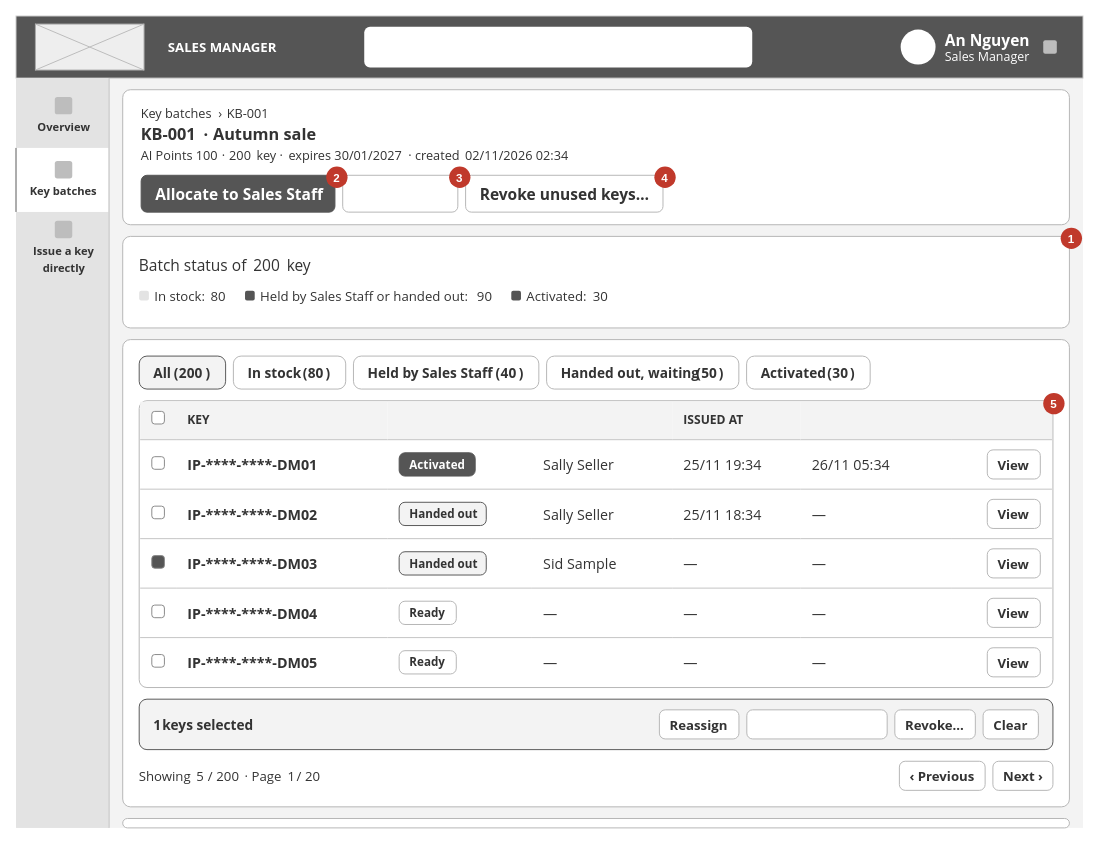
The diagram is 1099 pixels wide and 844 high, and some of its shapes have lost their labels. The shapes that lost their labels are listed below. From the top down, each one's centre as x and y in pixels, then its label:
the point at 558,46: Search this page
the point at 917,46: AN
the point at 400,193: Export CSV
the point at 459,420: STATUS
the point at 601,420: SALES STAFF
the point at 876,420: ACTIVATED AT
the point at 816,724: Take back to stock
